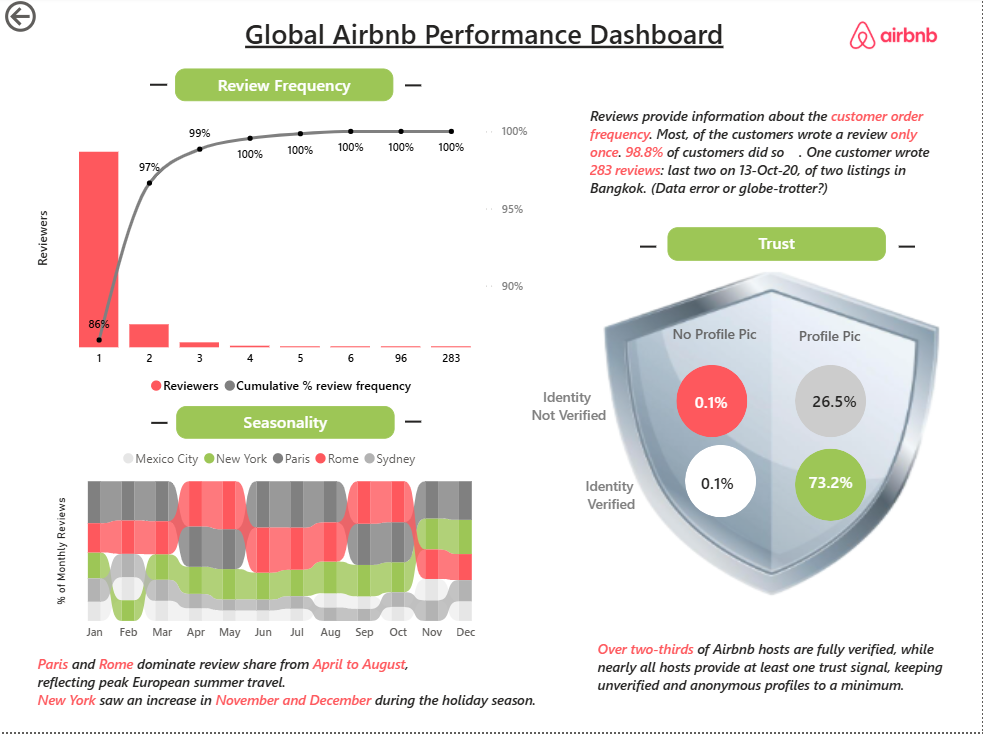

The page's visual inventory and layout, read from the dashboard file:
{"tool":"powerbi","page":{"name":"Reviews","canvas":[960,720],"ordinal":2},"visuals":[{"type":"textbox","box":[234.2,13.5,491.6,50.1],"z":0},{"type":"image","box":[799.7,12.2,149.2,51.4],"z":1000},{"type":"textbox","box":[171.2,70.9,214,31.8],"z":2000},{"type":"textbox","box":[572.3,102.7,353.4,124.7],"z":3000},{"type":"actionButton","box":[0,0,100,40],"z":4000},{"type":"textbox","box":[31.8,639.5,506.3,80.7],"z":5000},{"type":"shape","box":[146.7,68.5,17.1,36.7],"z":6000},{"type":"shape","box":[396.2,68.5,15.9,37.9],"z":7000},{"type":"lineStackedColumnComboChart","fields":{"Y2":["Reviews.Cumulative % review frequency"],"Y":["Reviews.Reviewers"],"Category":["Reviews.Reviews per Reviewer"]},"box":[31.8,116.2,490.4,283.7],"z":8000},{"type":"image","box":[538.2,242.9,421.9,390.1],"z":9000},{"type":"textbox","box":[653.1,225.7,214,33],"z":10000},{"type":"shape","box":[670.3,438.5,69.7,70.9],"z":11000},{"type":"shape","box":[661.7,360.2,69.7,70.9],"z":12000},{"type":"shape","box":[777.9,360.2,69.7,70.9],"z":13000},{"type":"shape","box":[777.9,442.2,69.7,70.9],"z":14000},{"type":"cardVisual","fields":{"Data":["Listings.Verified_Profile %"]},"box":[759.5,444.6,107.6,57.5],"z":15000},{"type":"cardVisual","fields":{"Data":["Listings.Verified_NoProfile %"]},"box":[656.8,417.7,106.4,112.5],"z":16000},{"type":"cardVisual","fields":{"Data":["Listings.NotVerified_NoProfile %"]},"box":[650.7,354.1,91.7,80.7],"z":17000},{"type":"cardVisual","fields":{"Data":["Listings.NotVerified_Profile %"]},"box":[765.6,350.5,106.4,86.8],"z":18000},{"type":"textbox","box":[653.1,316.2,110.1,33],"z":19000},{"type":"textbox","box":[776.7,317.4,110.1,33],"z":20000},{"type":"textbox","box":[480.6,377.9,151.6,45.2],"z":21000},{"type":"textbox","box":[522.1,464.7,151.6,48.9],"z":22000},{"type":"shape","box":[626.2,225.7,15.9,37.9],"z":23000},{"type":"shape","box":[879.4,225.7,15.9,37.9],"z":24000},{"type":"ribbonChart","fields":{"Y":["Reviews.% of Monthly Reviews"],"Series":["Listings.city"],"Category":["Reviews.Review Month"]},"box":[50.1,432.9,430.4,206.7],"z":25000},{"type":"textbox","box":[172.4,401.1,214,31.8],"z":26000},{"type":"shape","box":[148,398.6,15.9,37.9],"z":27000},{"type":"shape","box":[396.2,397.4,15.9,37.9],"z":28000},{"type":"textbox","box":[579.6,624.9,360.7,68.5],"z":29000}]}

Visuals, with their boxes in screenshot pixels (x1, y1, x2, y2), scaled from the page's 960x720 canvas onto the 983x735 screenshot:
textbox: Rect(240, 14, 743, 65)
image: Rect(819, 12, 972, 65)
textbox: Rect(175, 72, 394, 105)
textbox: Rect(586, 105, 948, 232)
actionButton: Rect(0, 0, 102, 41)
textbox: Rect(33, 653, 551, 734)
shape: Rect(150, 70, 168, 107)
shape: Rect(406, 70, 422, 109)
lineStackedColumnComboChart - Reviews.Cumulative % review frequency x Reviews.Reviewers: Rect(33, 119, 535, 408)
image: Rect(551, 248, 982, 646)
textbox: Rect(669, 230, 888, 264)
shape: Rect(686, 448, 758, 520)
shape: Rect(678, 368, 749, 440)
shape: Rect(797, 368, 868, 440)
shape: Rect(797, 451, 868, 524)
cardVisual - Listings.Verified_Profile %: Rect(778, 454, 888, 513)
cardVisual - Listings.Verified_NoProfile %: Rect(673, 426, 781, 541)
cardVisual - Listings.NotVerified_NoProfile %: Rect(666, 361, 760, 444)
cardVisual - Listings.NotVerified_Profile %: Rect(784, 358, 893, 446)
textbox: Rect(669, 323, 781, 356)
textbox: Rect(795, 324, 908, 358)
textbox: Rect(492, 386, 647, 432)
textbox: Rect(535, 474, 690, 524)
shape: Rect(641, 230, 657, 269)
shape: Rect(900, 230, 917, 269)
ribbonChart - Reviews.% of Monthly Reviews x Listings.city: Rect(51, 442, 492, 653)
textbox: Rect(177, 409, 396, 442)
shape: Rect(152, 407, 168, 446)
shape: Rect(406, 406, 422, 444)
textbox: Rect(593, 638, 963, 708)
